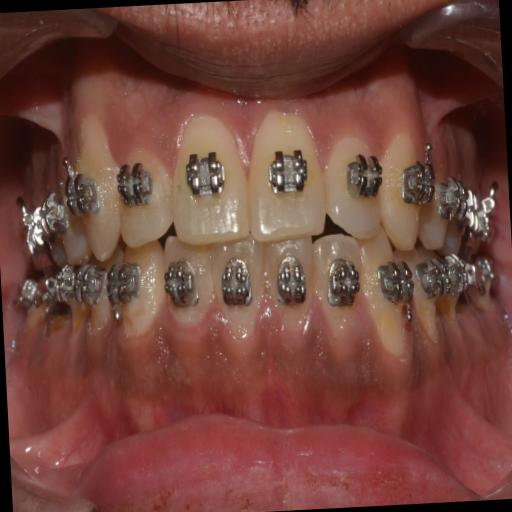correct_brace: (184, 138, 228, 208), (338, 143, 386, 207), (373, 252, 415, 324), (396, 142, 437, 212), (264, 136, 310, 198), (66, 157, 105, 228), (108, 254, 143, 322), (325, 249, 362, 313), (275, 248, 310, 313), (164, 252, 200, 313), (222, 255, 256, 309), (118, 162, 152, 207)
incorrect_brace: (321, 111, 386, 242), (113, 138, 174, 244), (311, 230, 368, 335), (164, 236, 214, 334)
